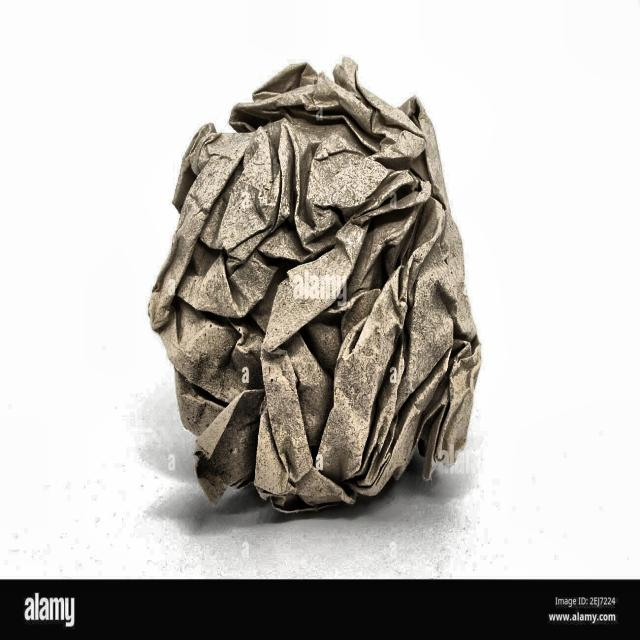Paper: (146, 57, 483, 513)
